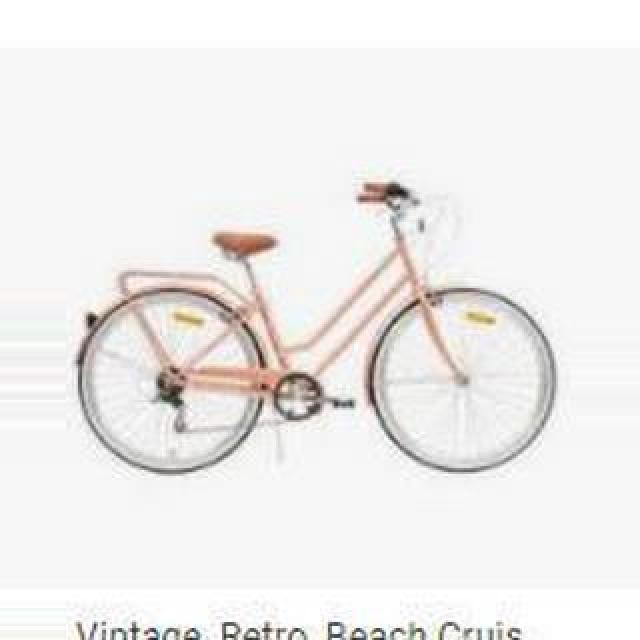Person: (73, 174, 565, 484)
